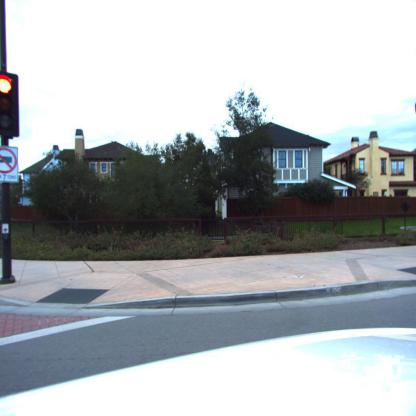traffic light: (1, 72, 20, 140)
